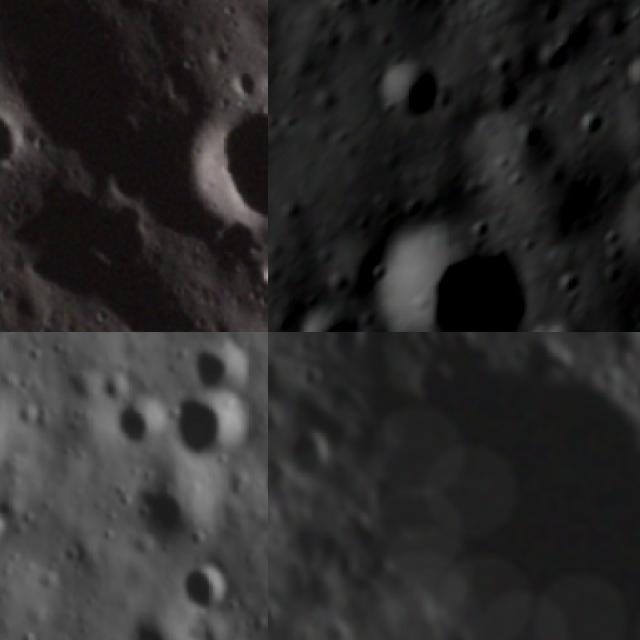crater: (354, 364, 640, 640), (153, 65, 268, 273), (366, 218, 530, 332), (166, 390, 254, 468), (131, 472, 212, 550), (278, 414, 348, 492), (371, 56, 442, 130), (186, 340, 260, 398), (0, 88, 41, 191), (607, 168, 640, 279), (173, 558, 235, 614), (111, 391, 166, 453), (608, 82, 640, 182), (119, 609, 211, 640), (294, 304, 360, 332), (323, 332, 380, 364), (115, 0, 189, 21), (247, 248, 268, 319), (294, 354, 330, 394), (317, 611, 362, 640), (558, 268, 585, 302), (0, 502, 16, 553), (621, 52, 640, 93)
